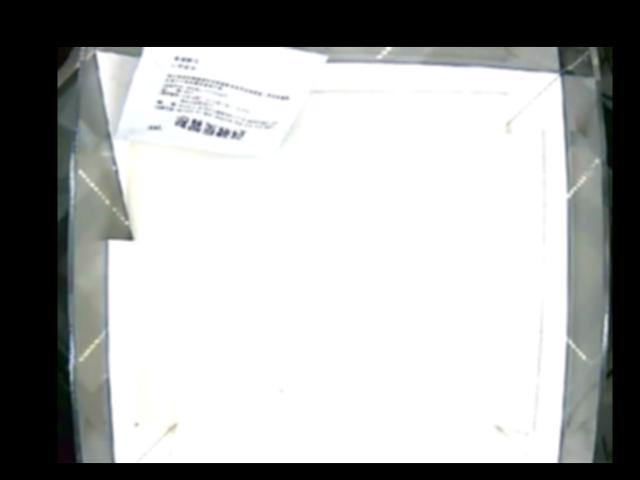Medicine: (115, 47, 328, 157)
